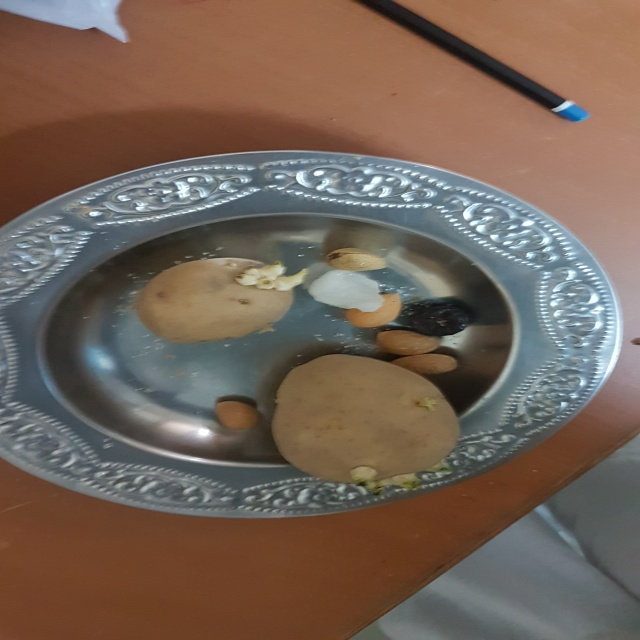potato: (267, 350, 466, 491), (133, 258, 304, 350)
